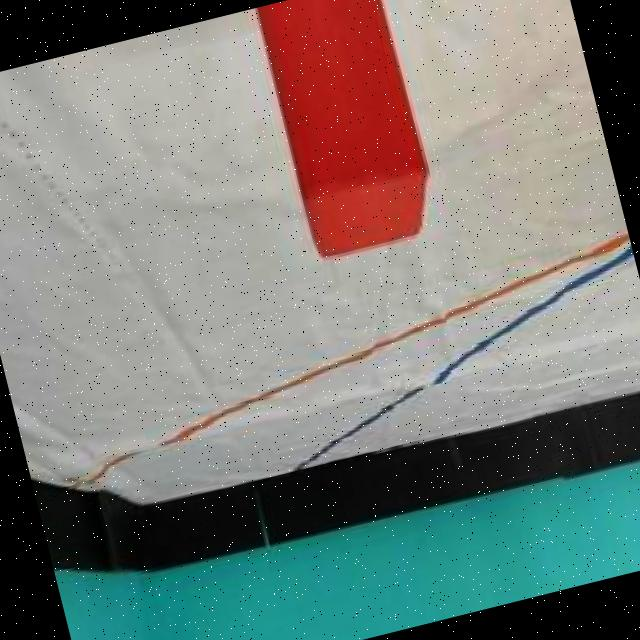redbox: (253, 0, 432, 257)
